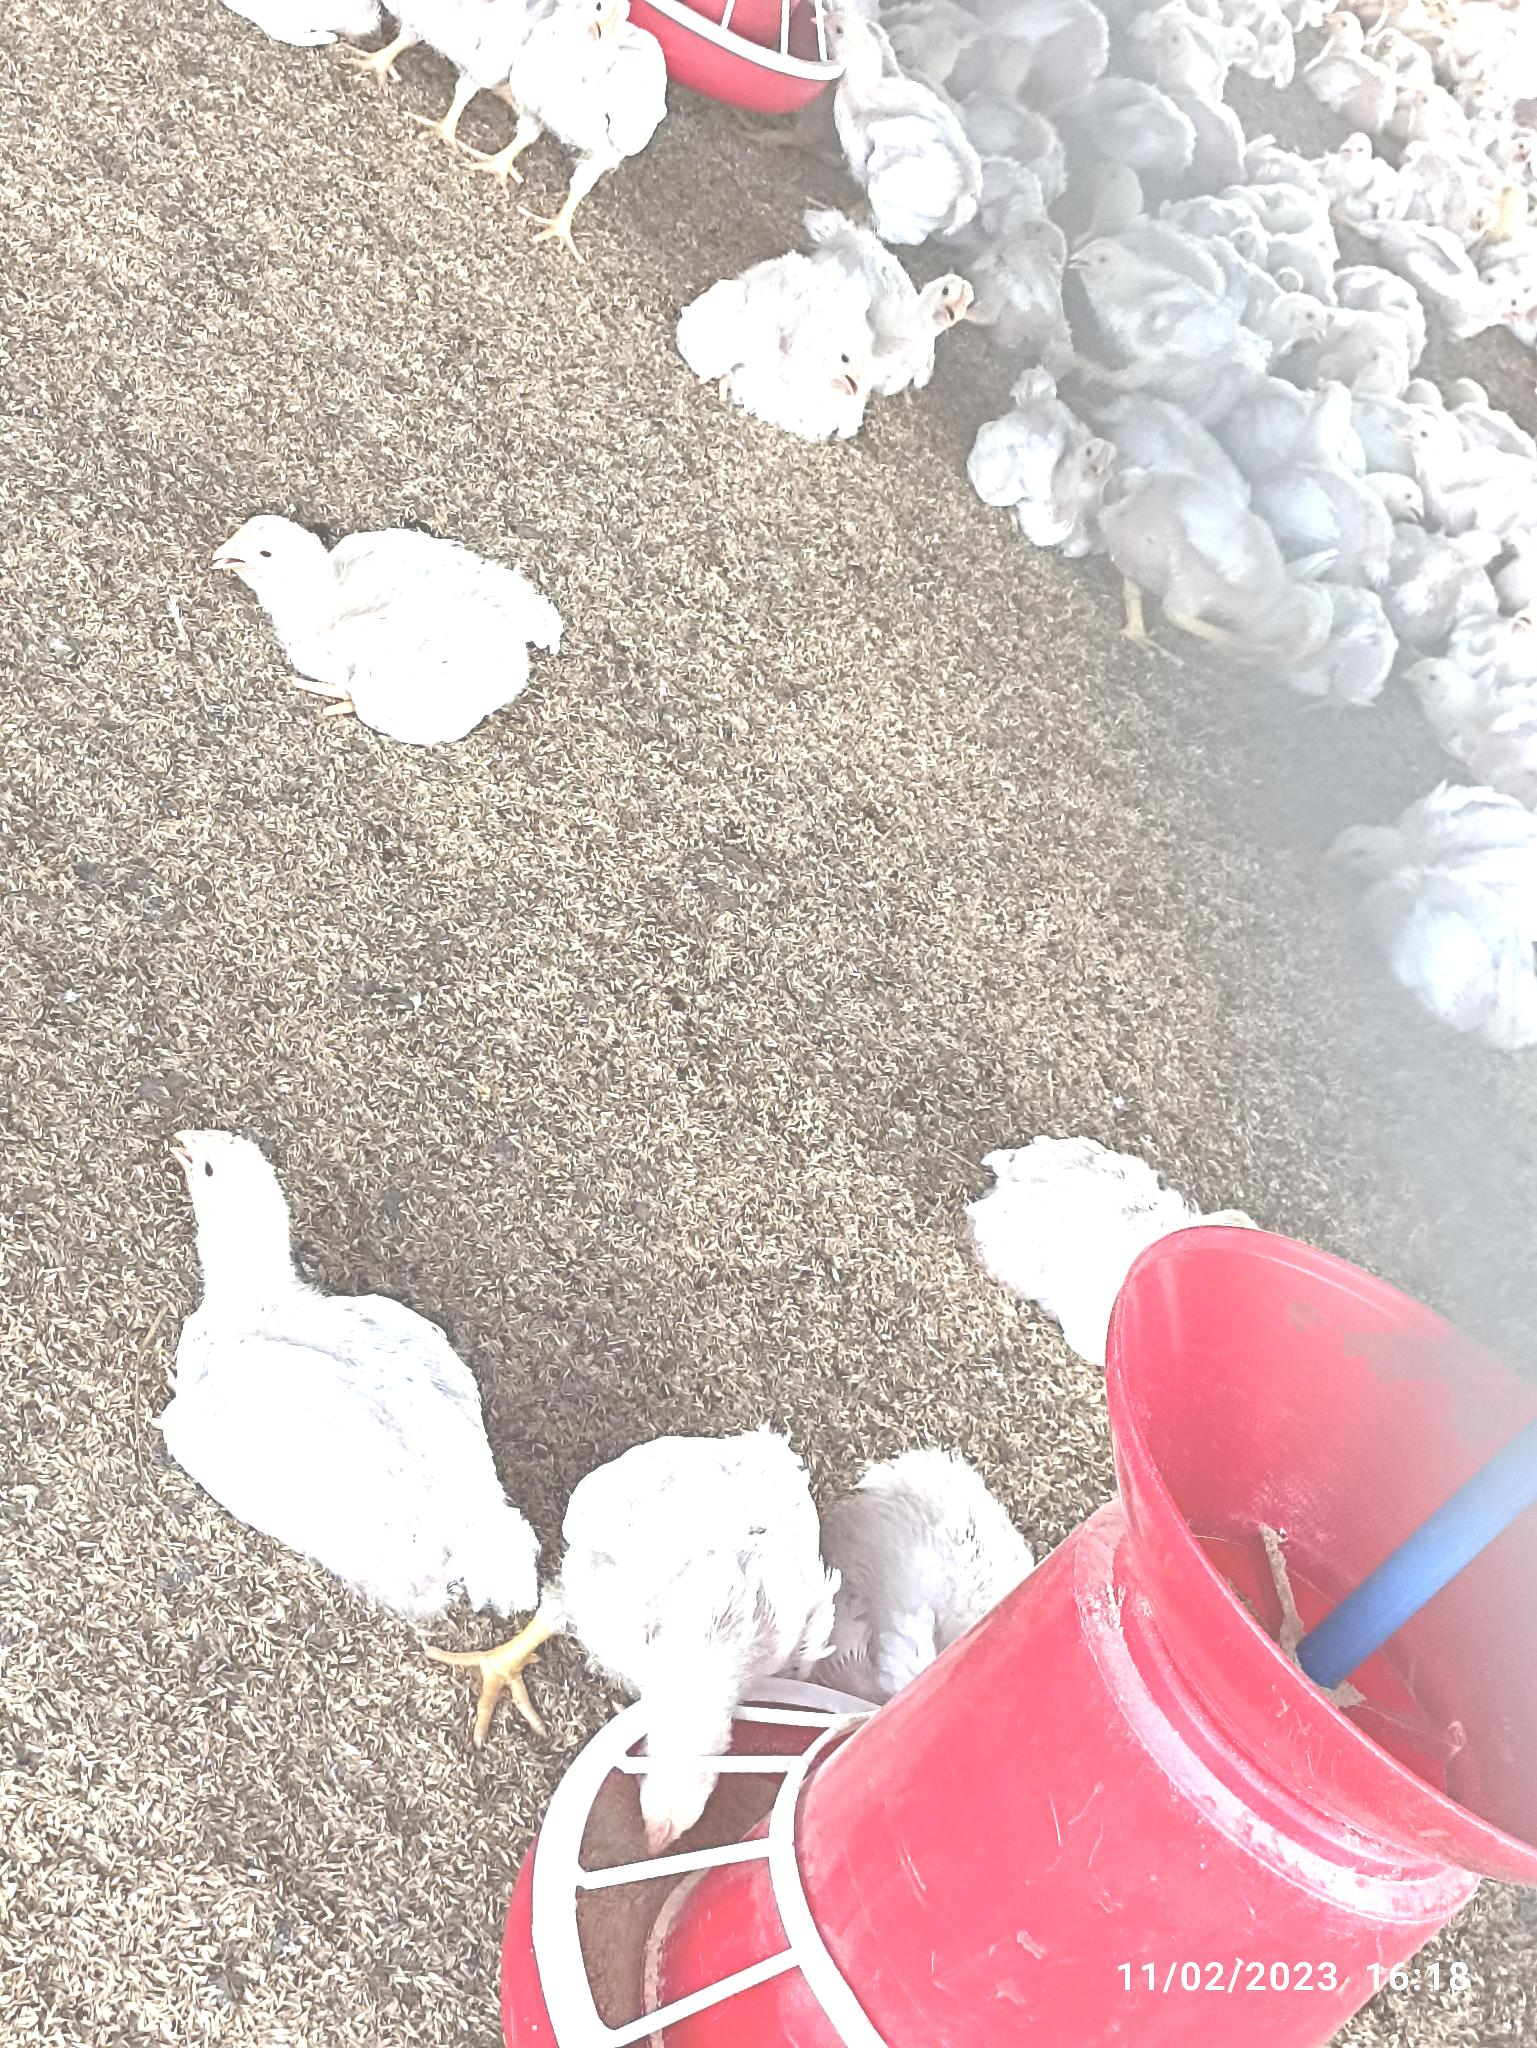Pollos: (144, 1125, 534, 1612), (210, 510, 551, 741), (568, 1417, 828, 1695), (685, 255, 875, 436)
